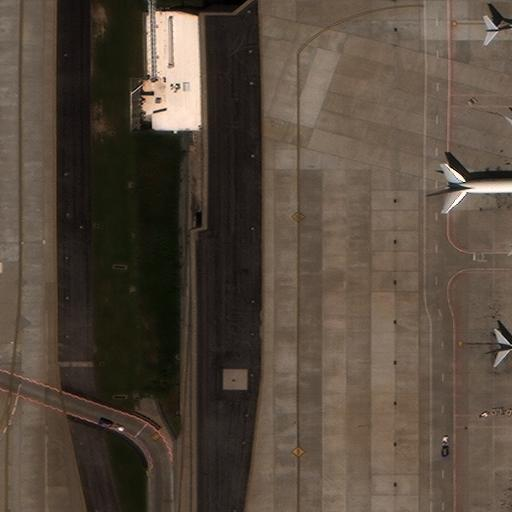Large Civil Transport: (433, 124, 511, 247)
